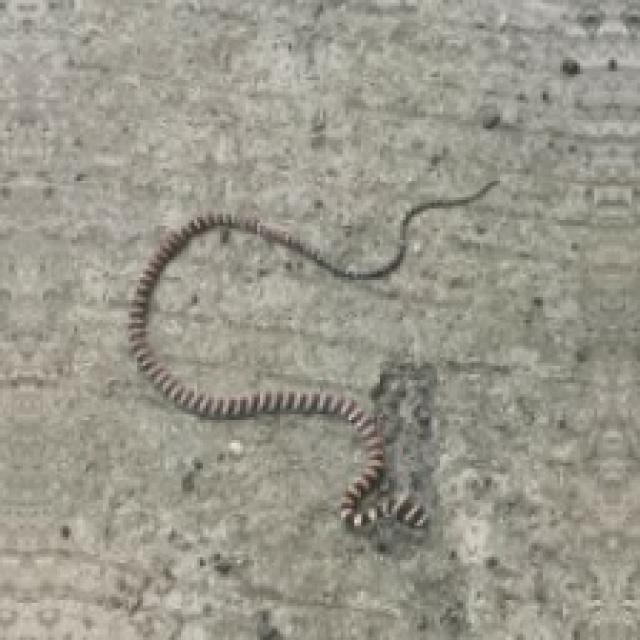paradise tree snake: (129, 180, 497, 526)
